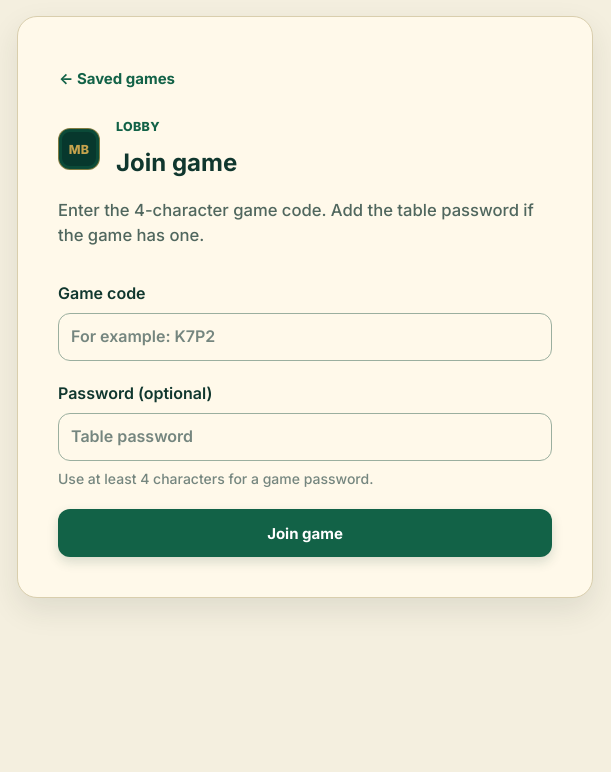
JoinGamePage › rejects a manual code through the API error and normalizes it first
In the field labelled "Game code": (305, 337) top-left (58, 313), bottom-right (552, 361), type " ab12 "
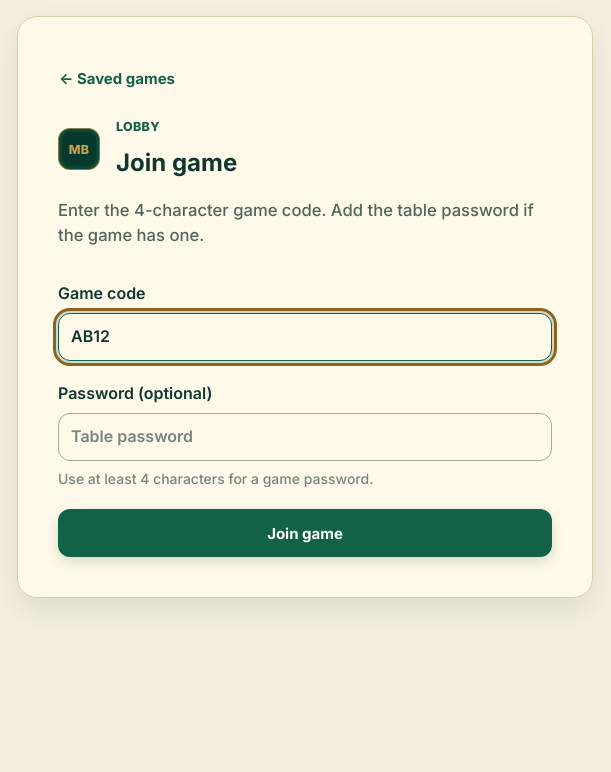
Click the button "Join game": click(305, 533) top-left (58, 509), bottom-right (552, 557)
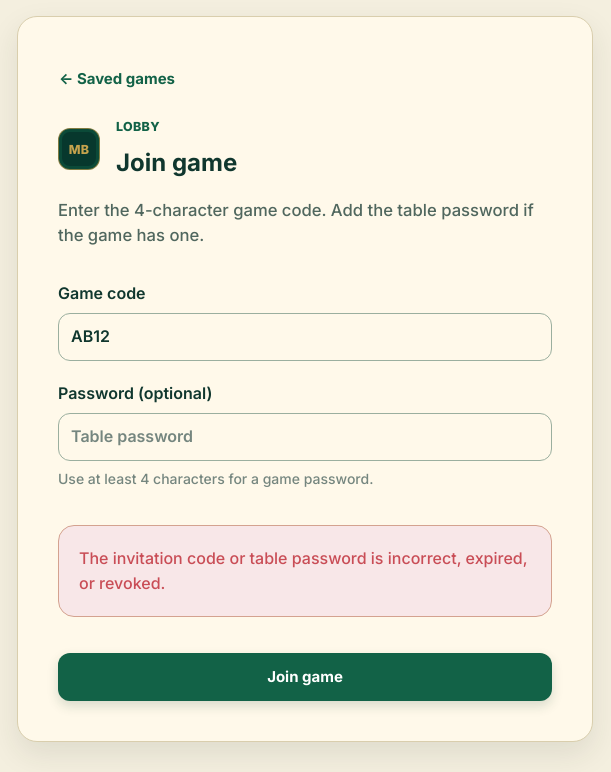
Now the text "The invitation code or table password is incorrect, expired, or revoked." is shown, box top-left (58, 525), bottom-right (552, 617)
